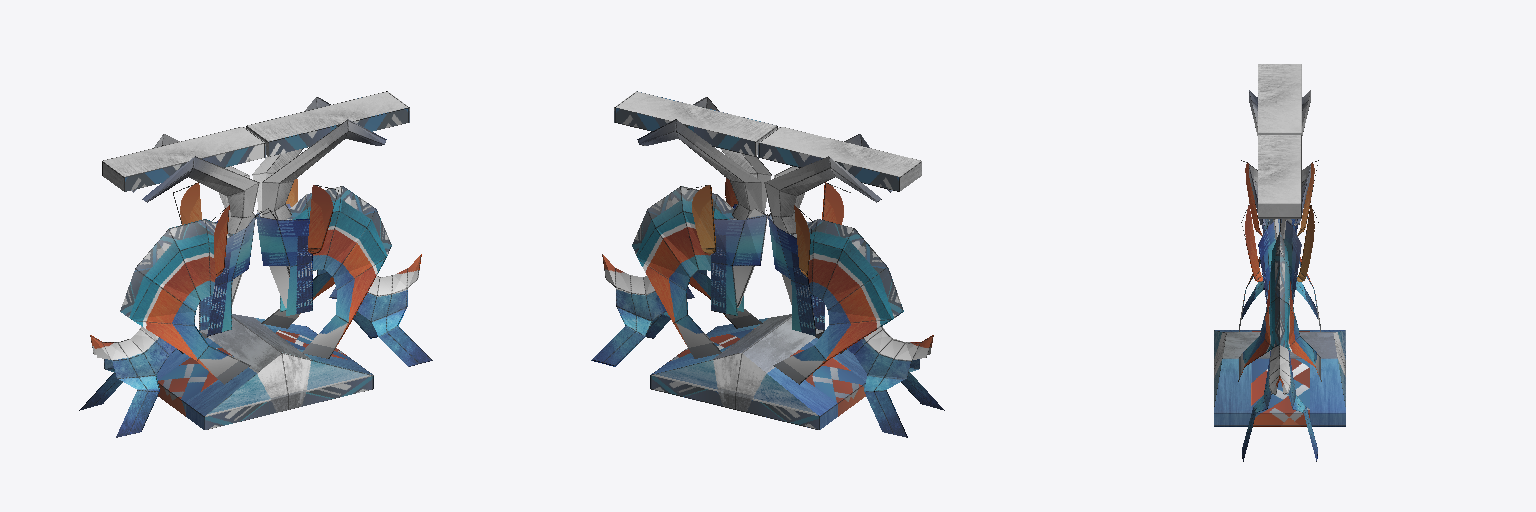
The picture shows the model from 3 angles: view 1: azimuth 30°, elevation 25°; view 2: azimuth 150°, elevation 25°; view 3: azimuth 270°, elevation 25°; orthographic projection.
Visible parts, largest first — view 1: goat; view 2: goat; view 3: goat.
Part boxes in pixels (x1,y1,x2,y2): goat: (79, 91, 432, 437); goat: (591, 91, 944, 437); goat: (1214, 64, 1345, 461).
Size of the model in its own units: 256 by 191 by 88.86.
1 materials, 1 textured.